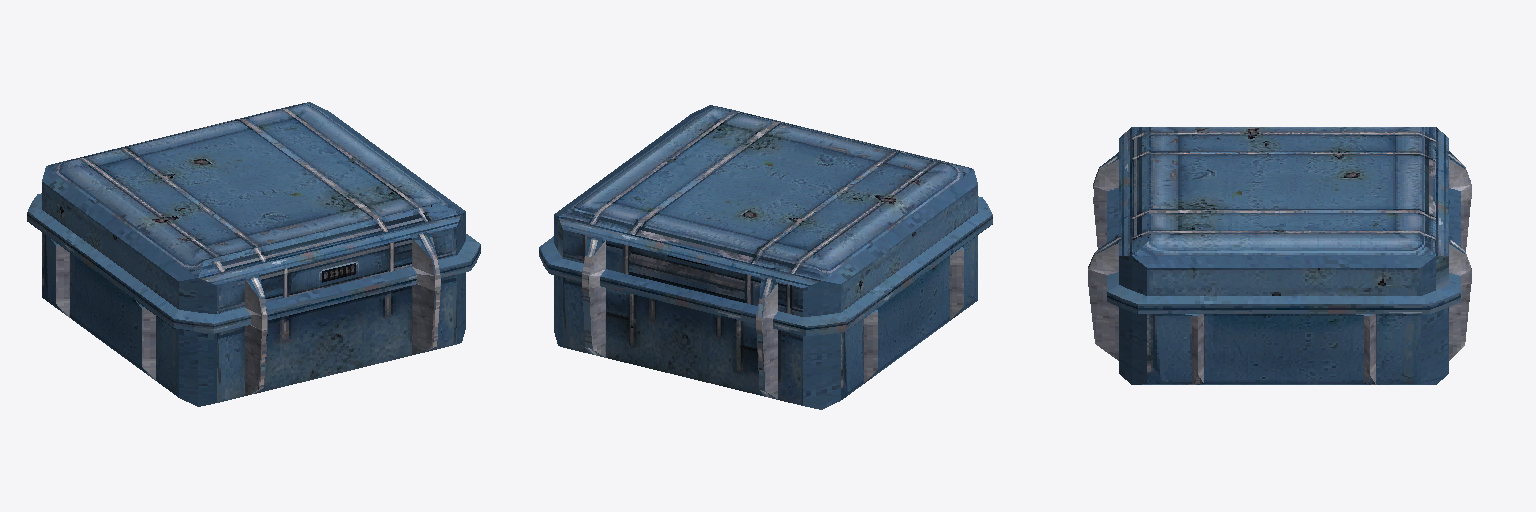
3 views of the same model, side by side, from view 1: azimuth 30°, elevation 25°; view 2: azimuth 150°, elevation 25°; view 3: azimuth 270°, elevation 25° (orthographic).
Visible parts, largest first — view 1: Cube_Cube.004; view 2: Cube_Cube.004; view 3: Cube_Cube.004.
Part boxes in pixels (x1,y1,x2,y2): Cube_Cube.004: (27, 102, 480, 406); Cube_Cube.004: (539, 105, 992, 409); Cube_Cube.004: (1088, 127, 1471, 384).
Bounding box in the file's own units: 2.35 × 1.04 × 2.52.
Materials: 1 (1 with a texture image).